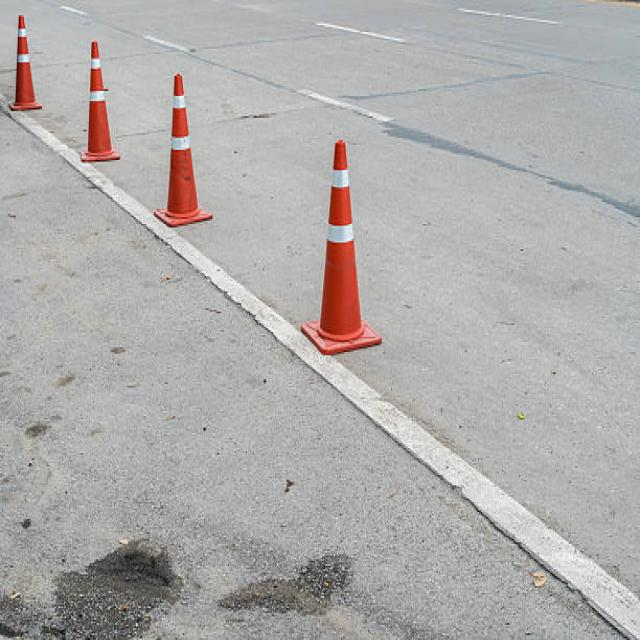Traffic Cone: (292, 114, 396, 378), (146, 58, 221, 240), (68, 28, 130, 185), (0, 0, 50, 125)
